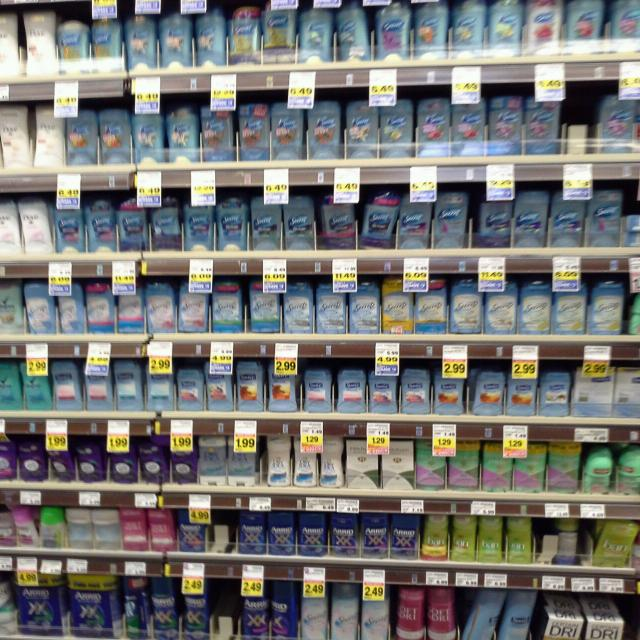empty: (561, 80, 599, 153), (215, 582, 240, 640), (205, 513, 238, 556)
